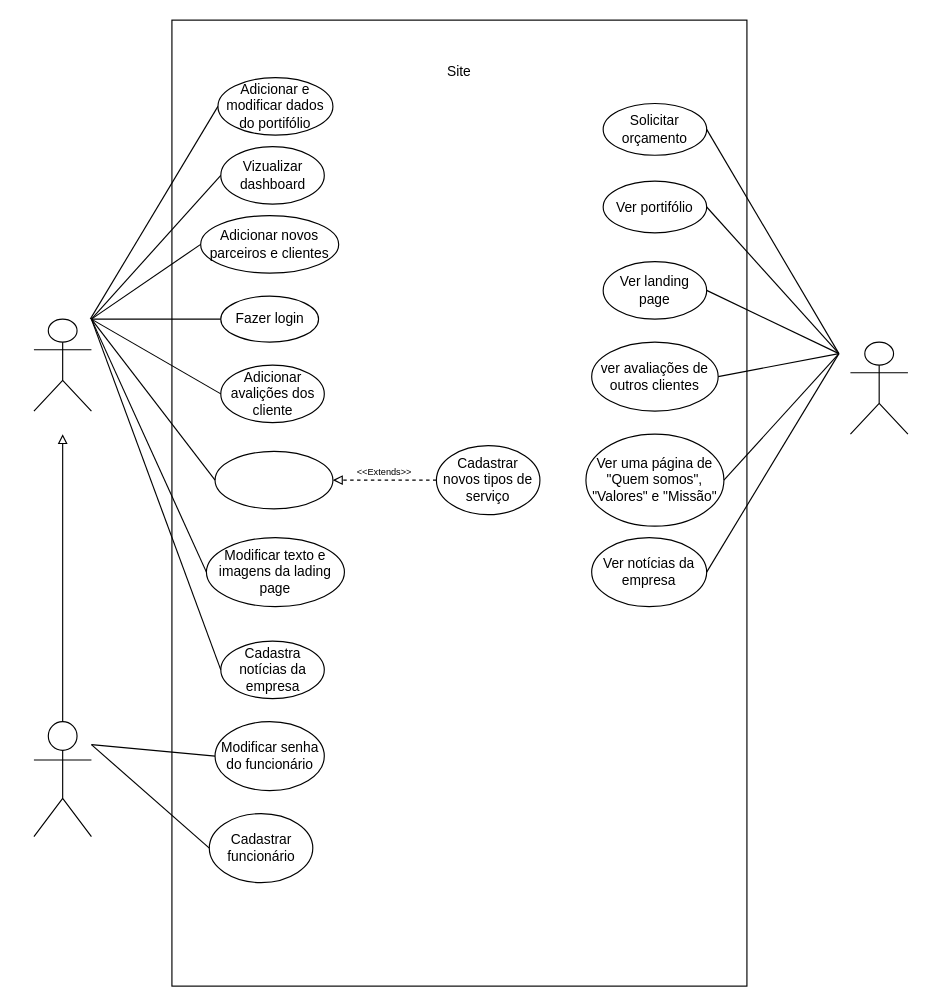
The diagram is 928 pixels wide and 1006 high, and some of its shapes have lost their labels. Here are the shapes that lost their labels. From the top down, the centre of each, then its label:
(x=62, y=364): Funcionário
(x=878, y=387): Cliente
(x=273, y=479): Adicionar tipos de serviço
(x=62, y=778): Administrador
